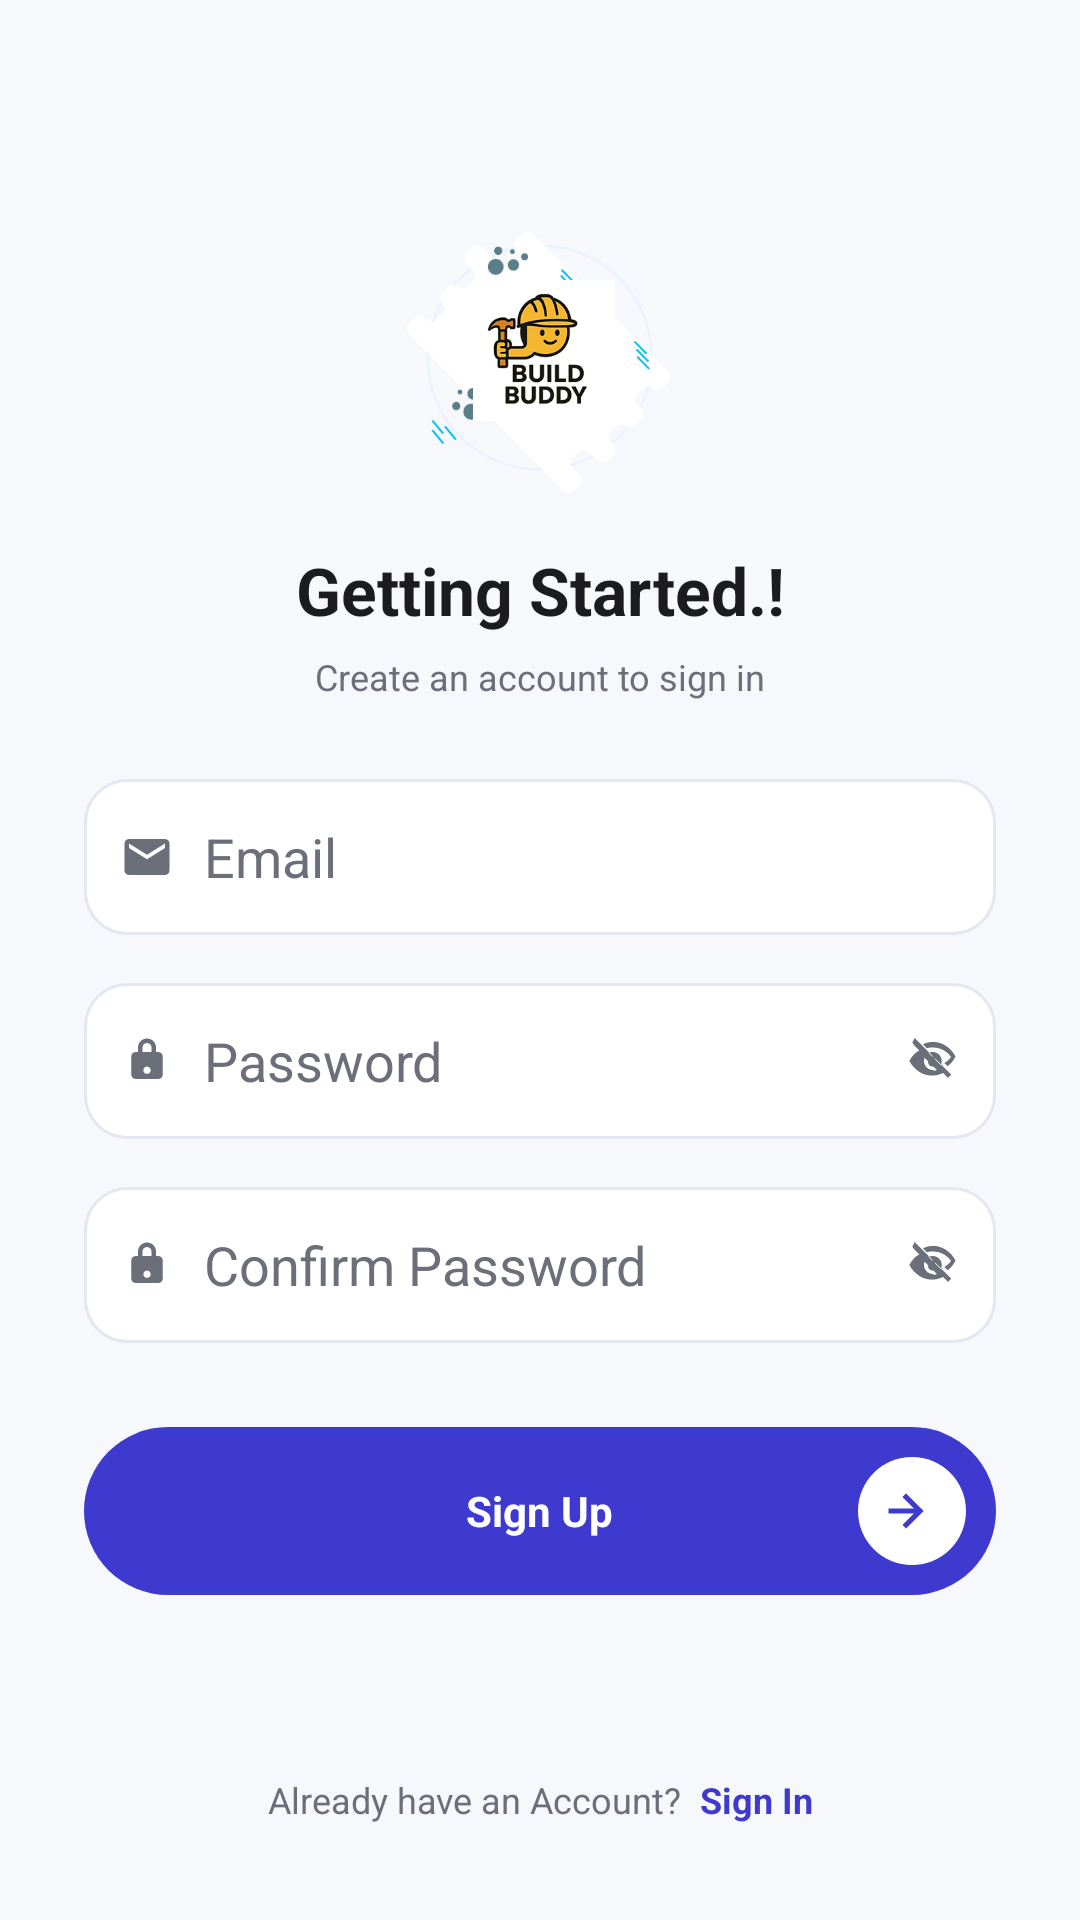

Icons on this 1080px x 1920px Android screen, each with the point to tap as point (x, y):
Sign Up: point (906, 1511)
